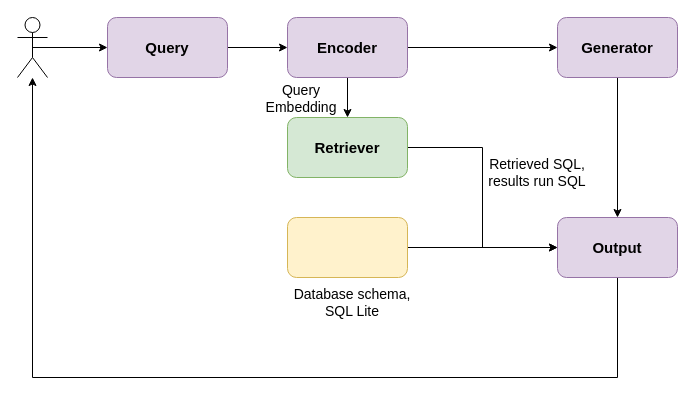
Some shapes in this 695 by 403 pixel diagram are drawn without their labels. Each missing label, with the centre of its shape:
Knowledge base: the point at 347,247
User: the point at 32,47
